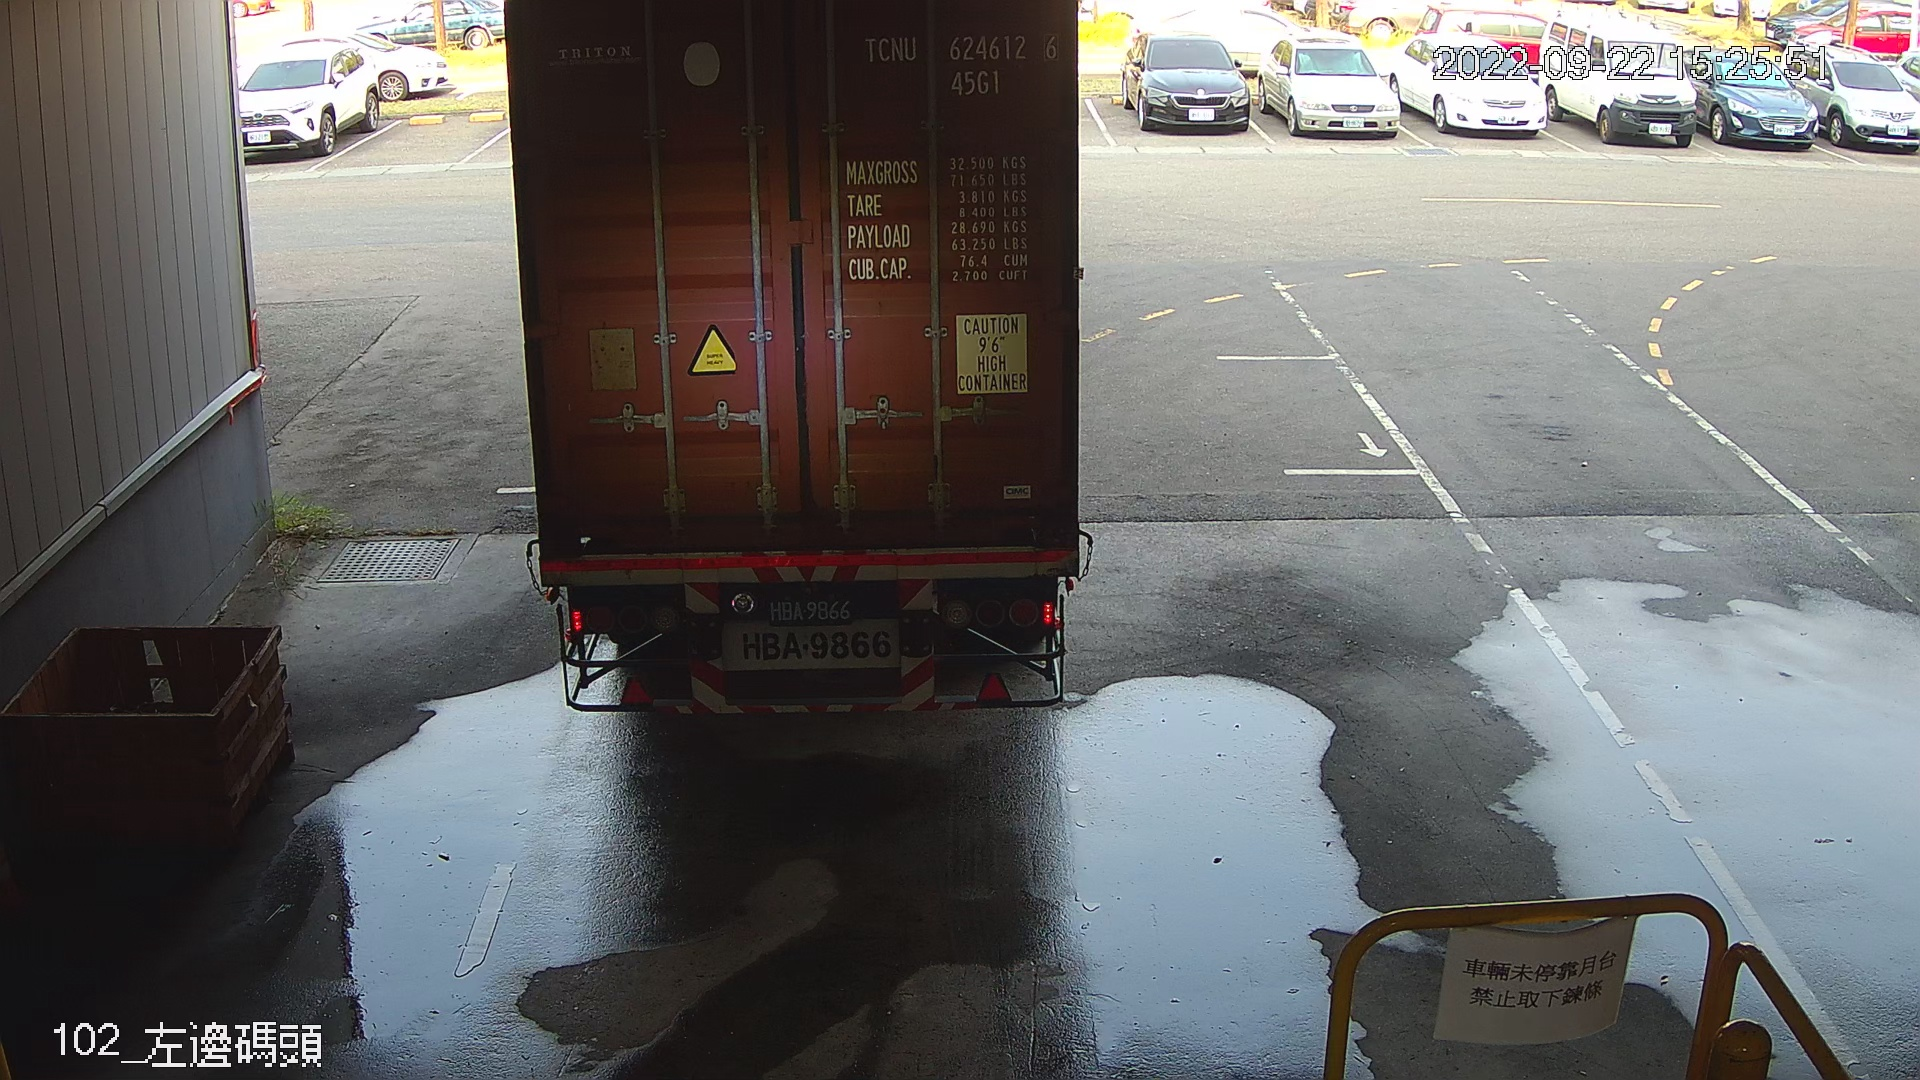container: (851, 20, 1067, 102)
